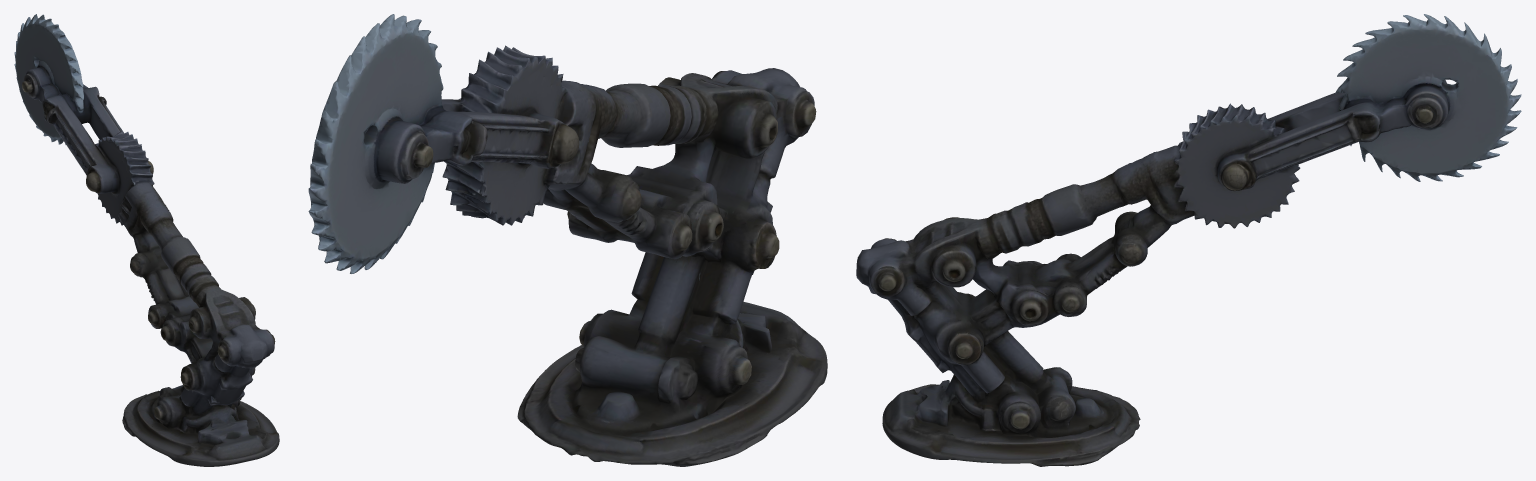
Rendered from saw.fbx.
3 views of the same model, side by side, from view 1: azimuth 30°, elevation 25°; view 2: azimuth 150°, elevation 25°; view 3: azimuth 270°, elevation 25° (orthographic). The views are drawn at different scales.
Parts seen in each view (by area): view 1: tripo_node_a3ee47eb; view 2: tripo_node_a3ee47eb; view 3: tripo_node_a3ee47eb.
Boxes of the visible parts, <box> form: tripo_node_a3ee47eb: <box>14,14,279,466</box>; tripo_node_a3ee47eb: <box>308,14,827,466</box>; tripo_node_a3ee47eb: <box>856,14,1521,466</box>.
Bounding box in the file's own units: 0.2825 × 0.6896 × 0.9979.
1 material, 1 textured.
